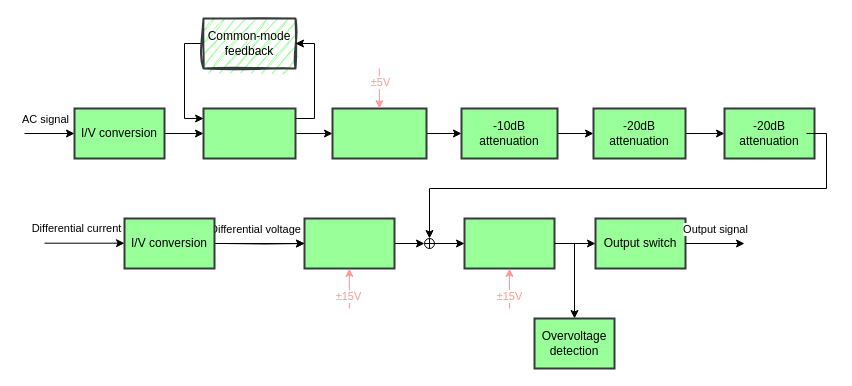
This 852x386 diagram has some shape labels left out. Here are the shapes that lost their labels. From the top down, the centre of each, then its label:
At point 249,133: "LC low-pass filter".
At point 379,133: "Differential to single-ended (OPA695)".
At point 349,243: "Differential to single-ended (OPA2197)".
At point 509,243: "+20dB gain (THS3095)".
